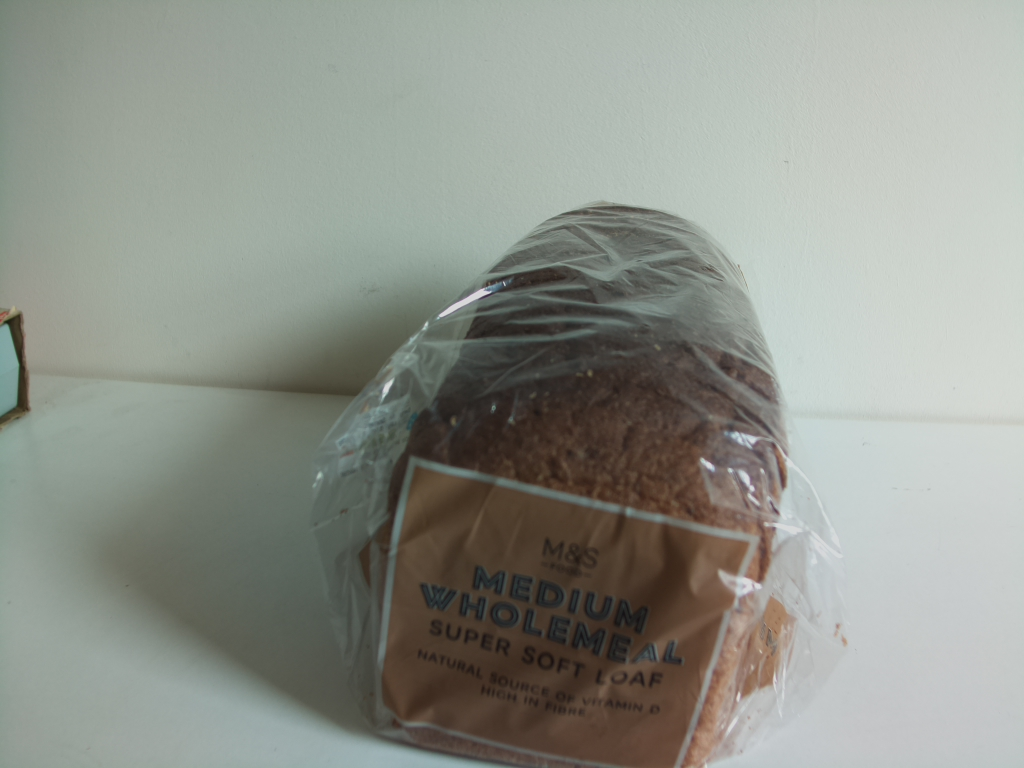bread: (308, 198, 861, 766)
